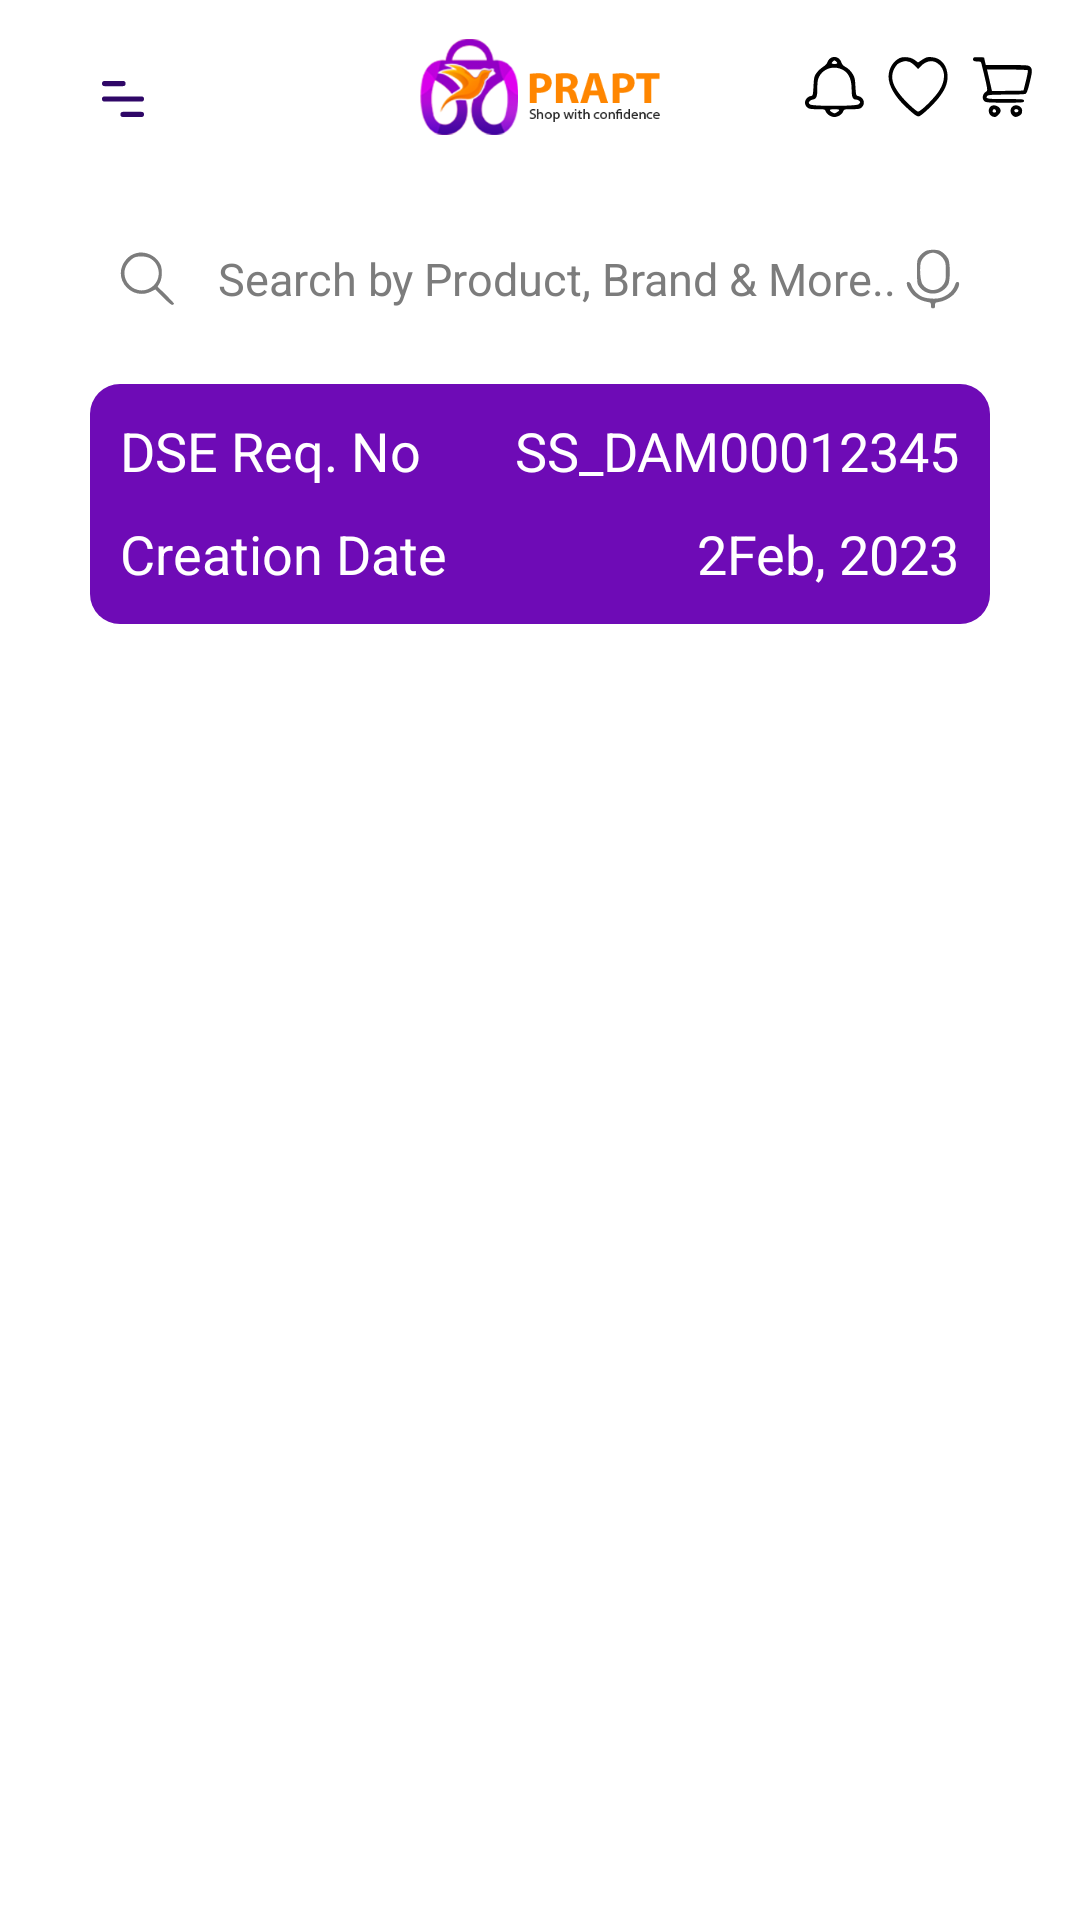

Icons on this 1080px×1920px Android screen, each with its box as (x1, y1, x2, y2):
home cart: (973, 57, 1032, 117)
home heart: (888, 57, 948, 117)
home notification: (805, 57, 864, 117)
nav: (102, 81, 144, 117)
